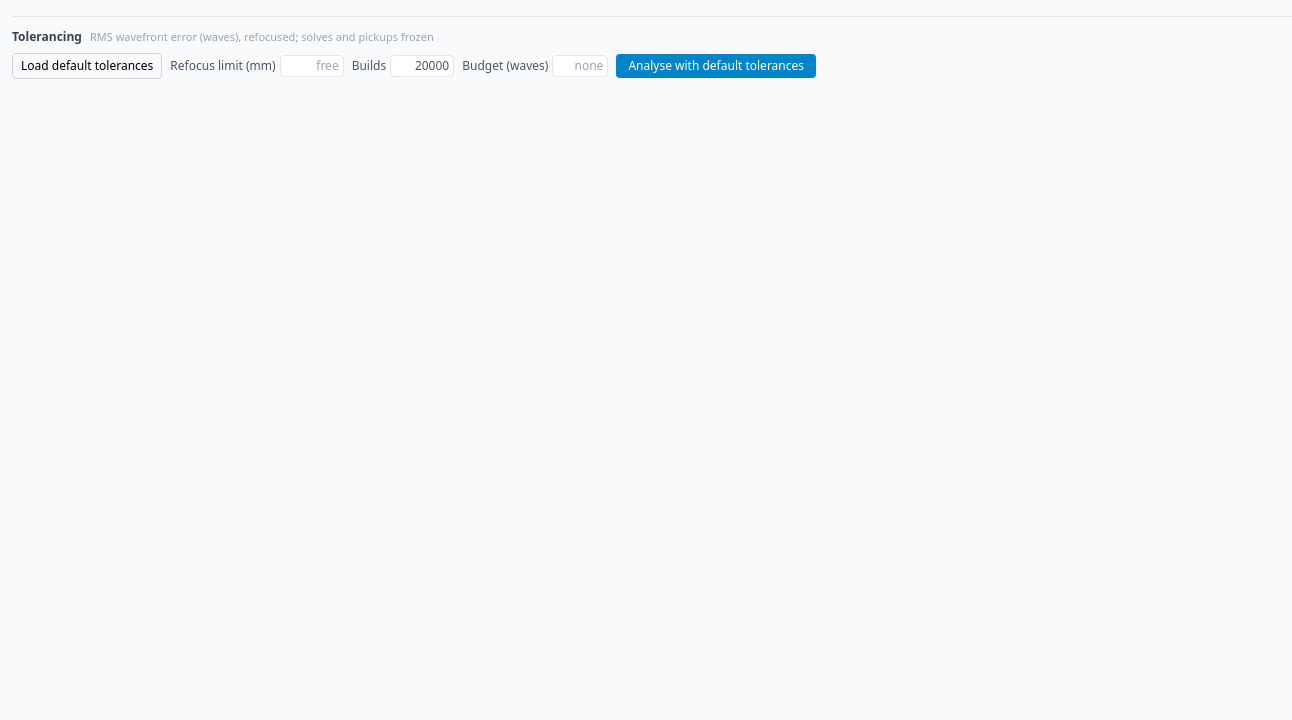
Test case: LensTolerancePanel › runs the analysis and shows the prediction and sensitivities
Step 1. Click the button "Analyse with default tolerances" → (716, 66), box [616, 54, 816, 78]
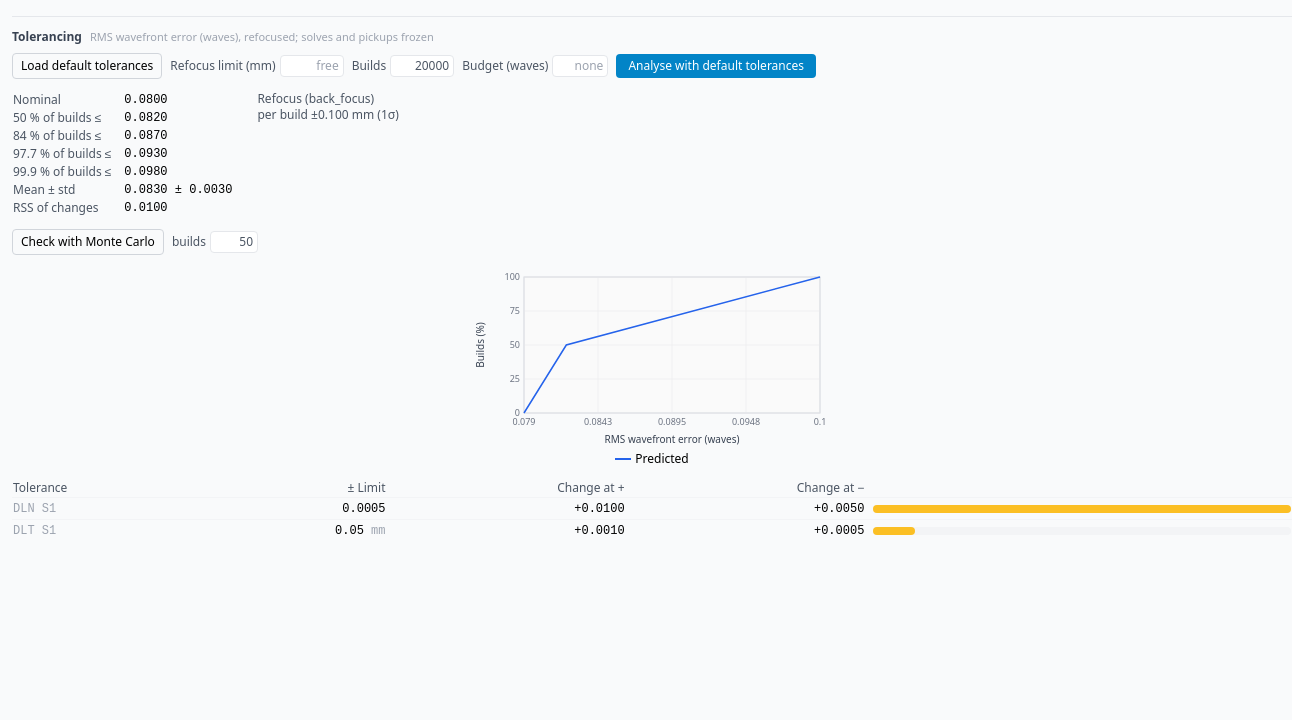
Result: the element with test id "tolerance-result" is shown
Result: the cell with test id "pct-84.13" reads "0.0870" at [124, 129, 168, 143]
Result: the row "DLN S1 0.0005 +0.0100 +0.0050" is shown at [12, 498, 1291, 520]
Step 2. Click the button "Check with Monte Carlo" → (88, 242), box [12, 229, 164, 255]
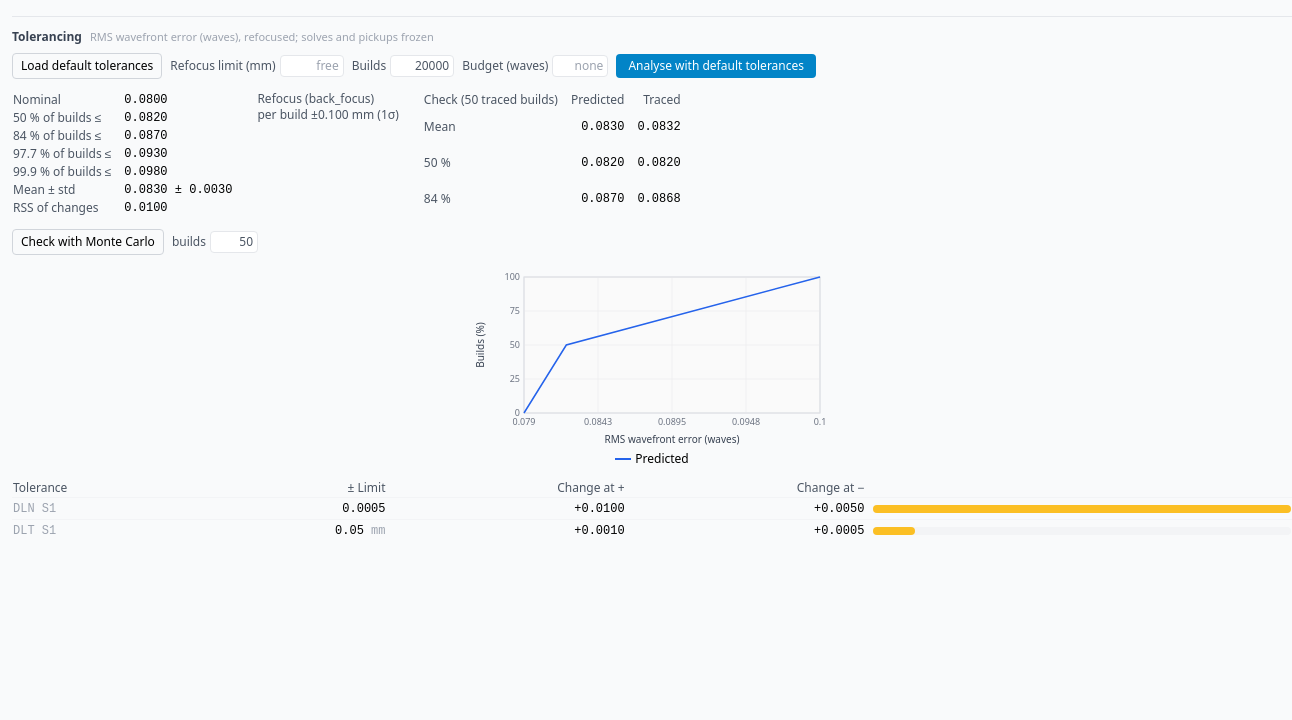
Result: the table with test id "monte-carlo-result" is shown at [423, 91, 682, 217]
Result: the table with test id "monte-carlo-result" shows "0.0832" at [637, 120, 681, 134]
